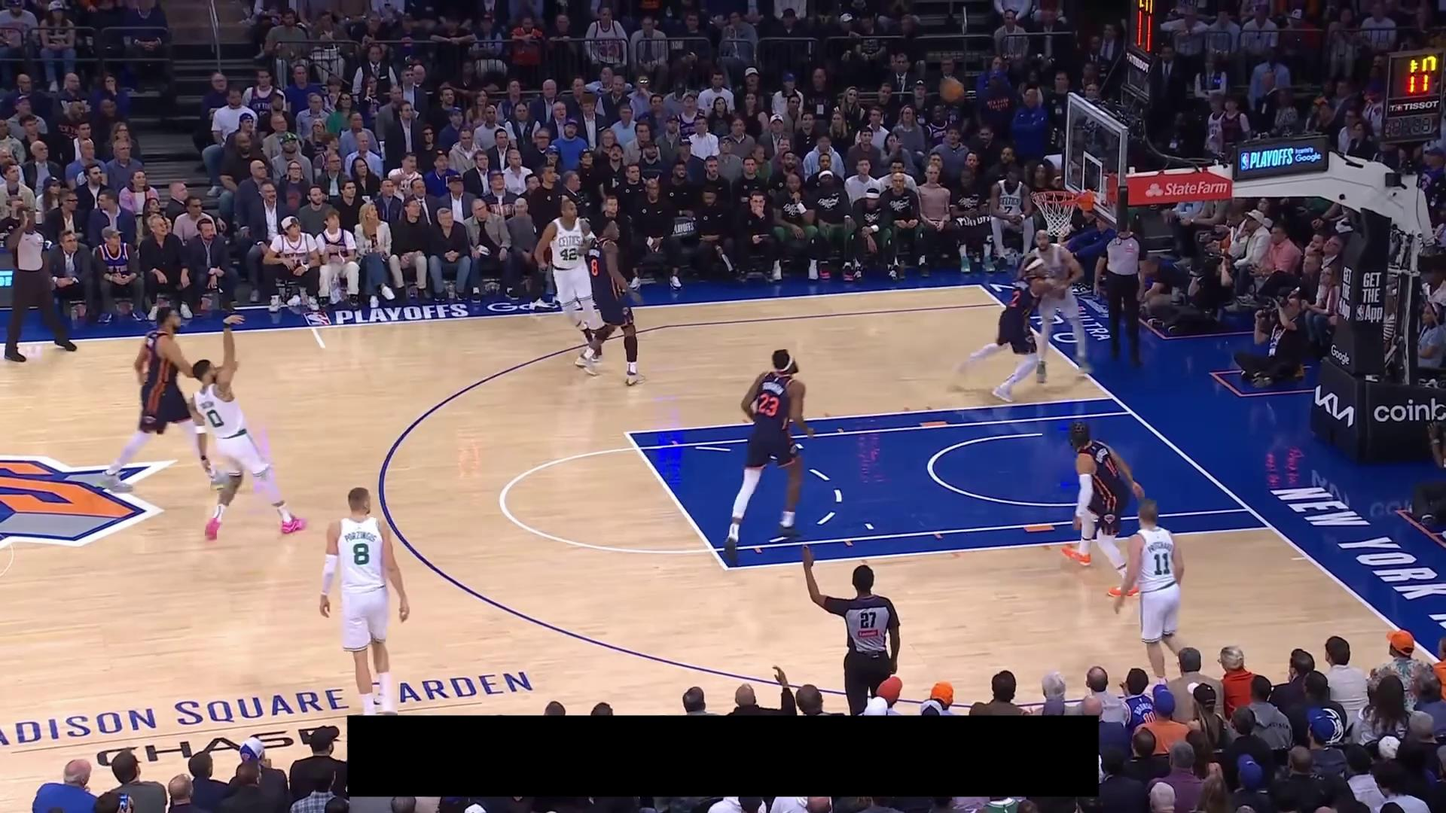ball: (939, 78, 964, 103)
number: (757, 392, 779, 417), (1153, 552, 1170, 576), (352, 543, 370, 565), (206, 409, 225, 428), (559, 246, 578, 263), (1009, 289, 1022, 308), (589, 258, 599, 276)
player: (187, 313, 310, 542), (94, 303, 237, 495), (318, 485, 412, 714), (720, 347, 816, 565), (951, 253, 1075, 404), (1060, 419, 1149, 599), (1110, 496, 1189, 697), (534, 196, 609, 369), (1012, 227, 1093, 383), (576, 216, 648, 387)
referee: (801, 543, 900, 714), (2, 206, 78, 363), (1093, 217, 1149, 368)
rim: (1030, 190, 1079, 205)
